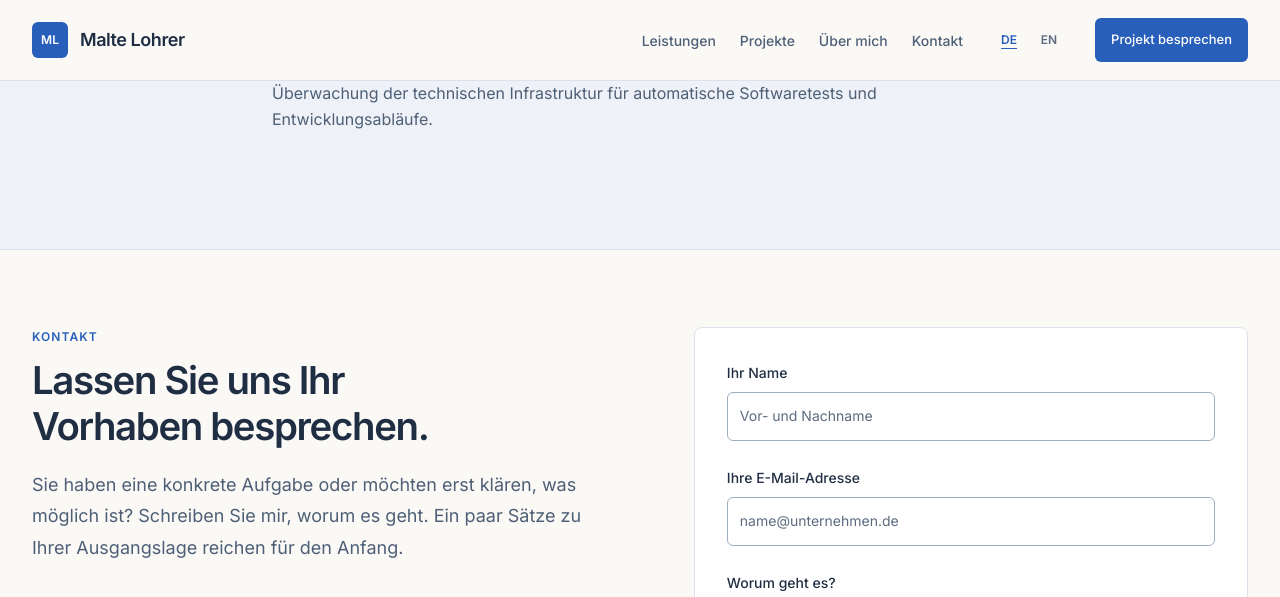
Test: Contact form › preserves the enquiry and offers email when sending fails
(page scrolled)
Step 1. Type "Lokaler Test" into the field labelled "Ihr Name" → (971, 416), box [727,392,1215,441]
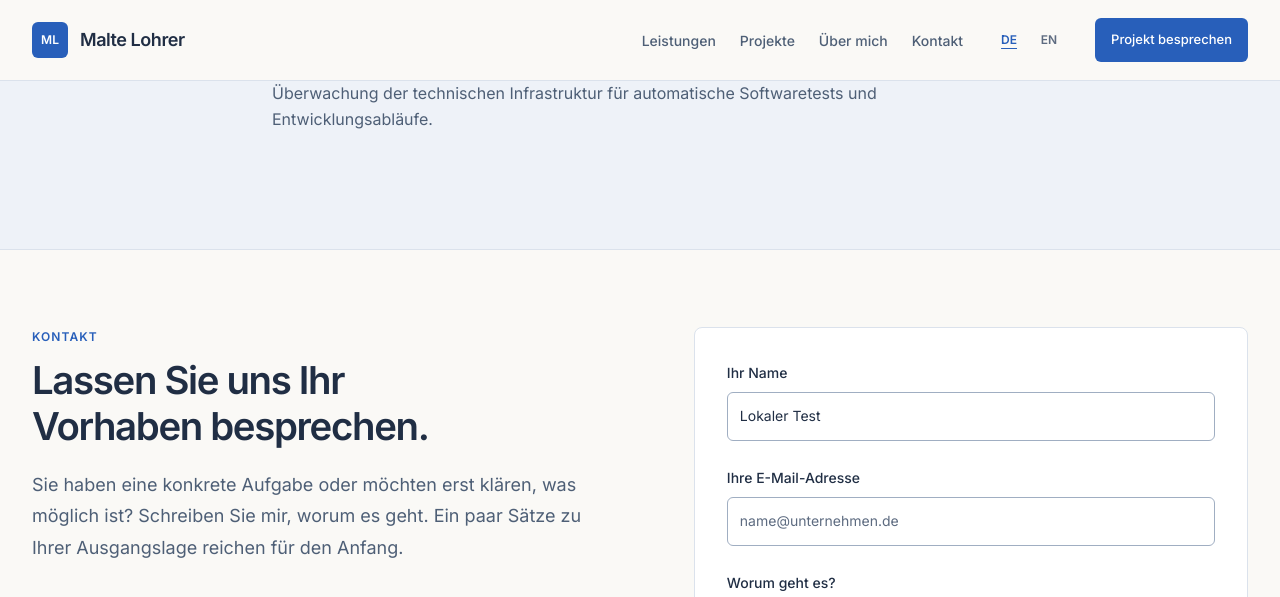
Step 2. Type "test@example.com" into the field labelled "Ihre E-Mail-Adresse" → (971, 521), box [727,497,1215,546]
(page scrolled)
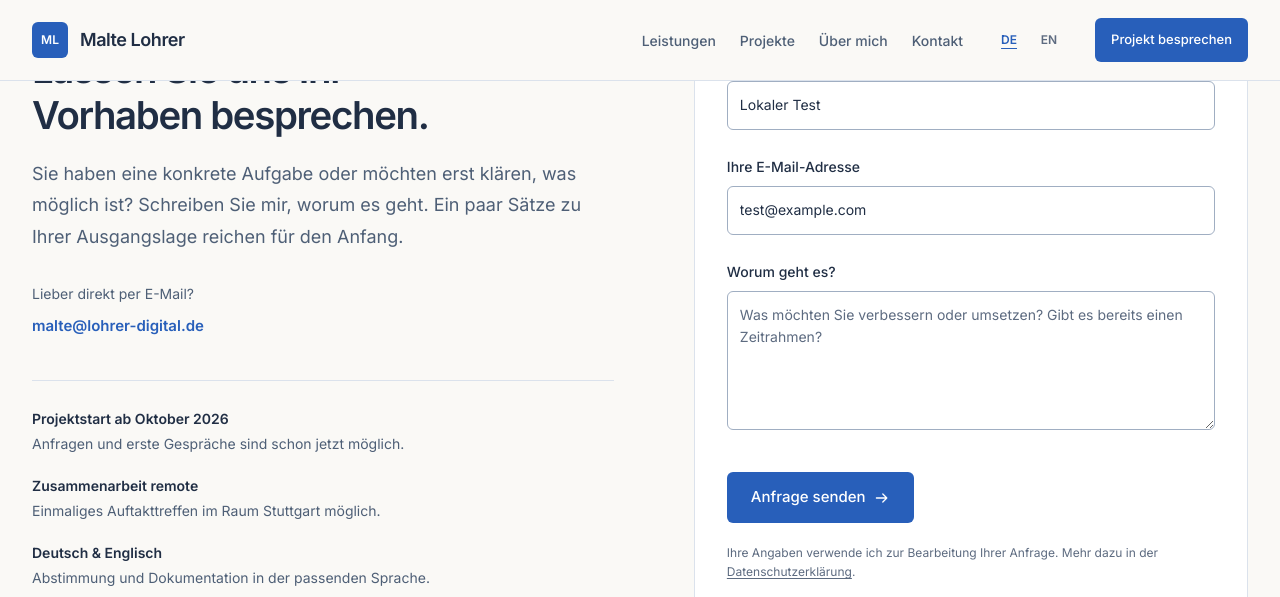
Step 3. Replace the text in the text box labelled "Worum geht es?" with "Lokale Testanfrage ohne Versand." → (971, 360), box [727,291,1215,430]
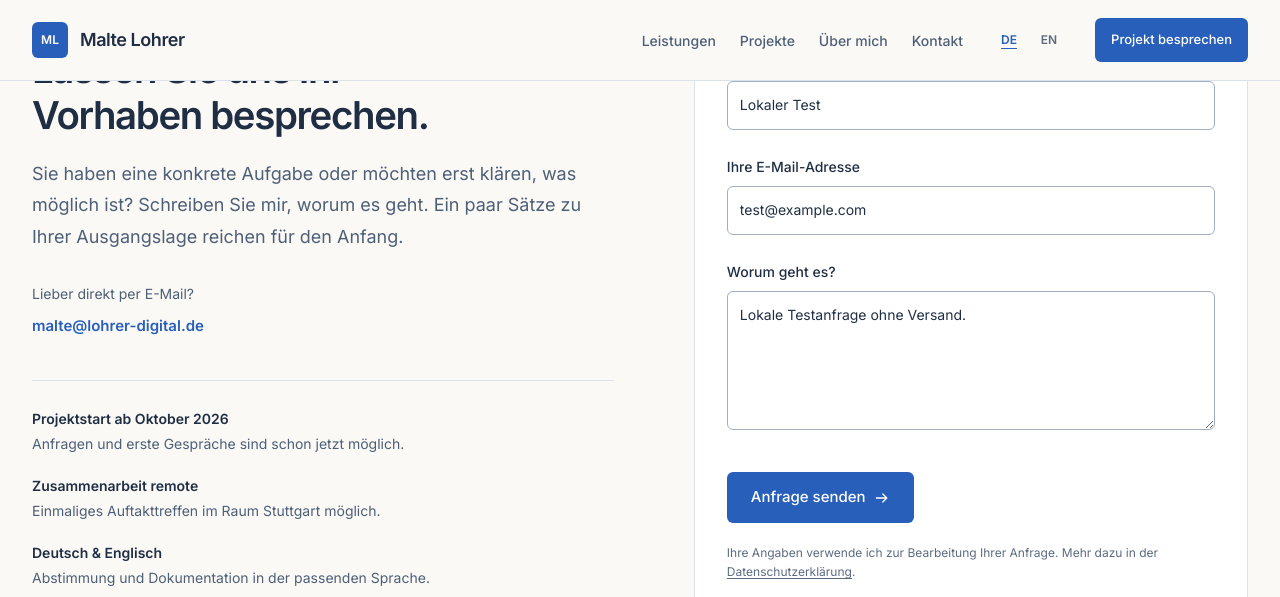
Step 4. Submit the form "Anfrage senden", box [727,49,1215,582]
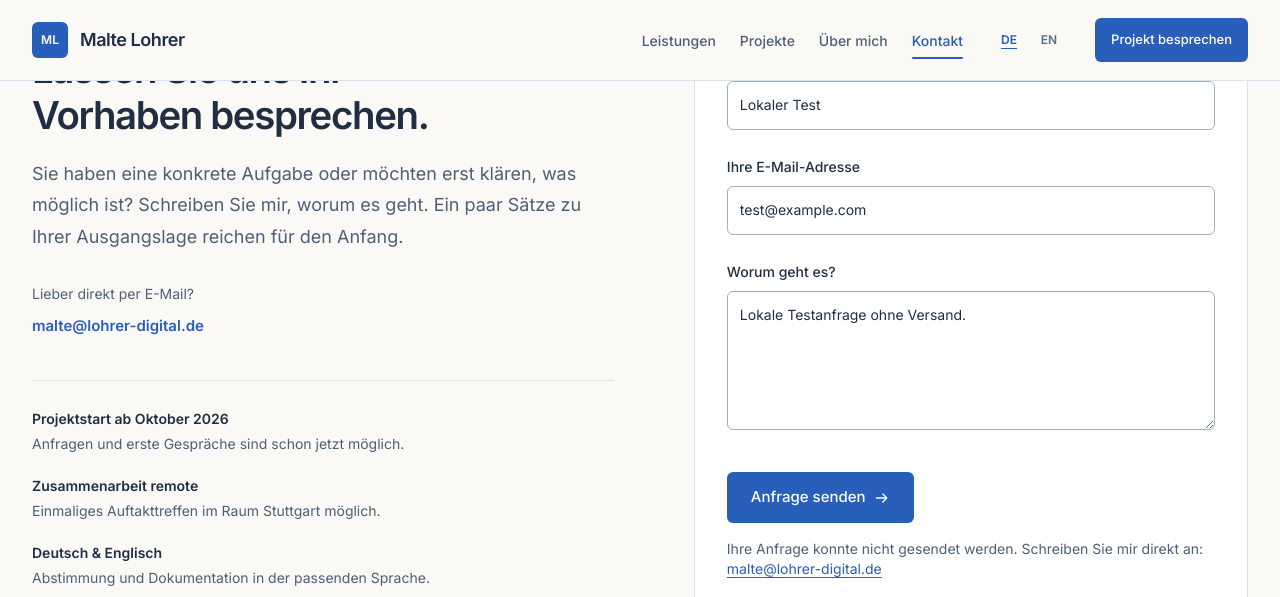
Check: the text "Ihre Anfrage konnte nicht gesendet werden. Schreiben Sie mir direkt an:" is shown, box [727,540,1203,557]
